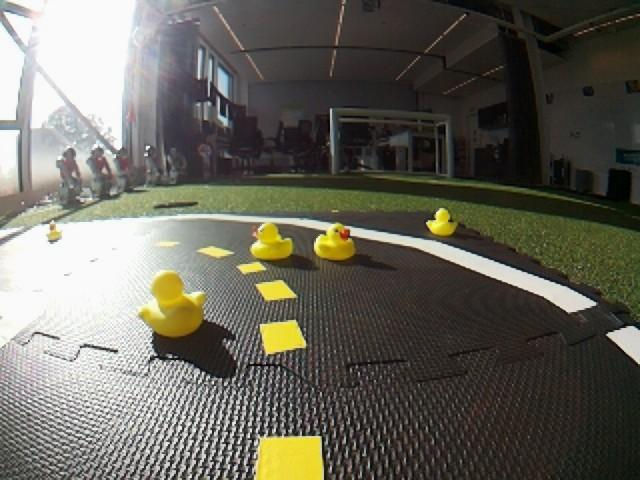Duckies: (137, 274, 205, 339), (312, 223, 357, 261), (252, 222, 292, 260), (426, 210, 457, 237), (43, 221, 62, 243)
